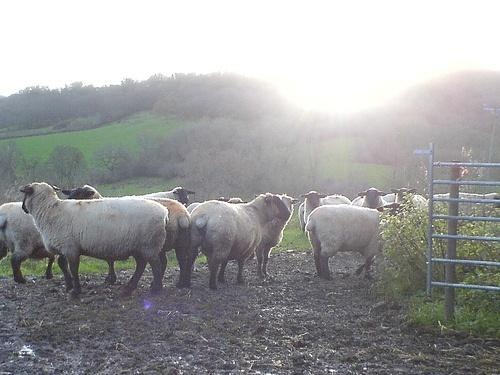sheep: (20, 179, 176, 295), (61, 181, 189, 284), (301, 199, 419, 276), (189, 190, 286, 283), (1, 201, 55, 283), (299, 191, 355, 223), (146, 182, 192, 206), (351, 186, 390, 210), (391, 183, 426, 207)
